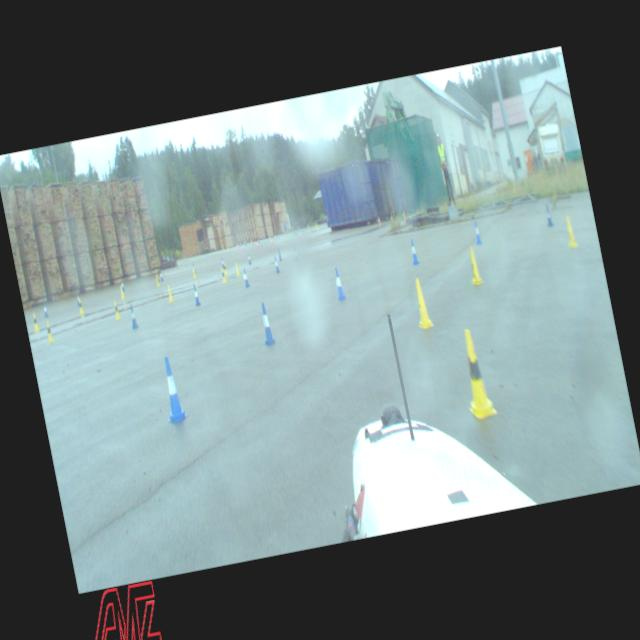blue_cone: (156, 356, 189, 424), (258, 302, 276, 344), (332, 267, 346, 300), (408, 238, 420, 265), (472, 220, 483, 244), (128, 305, 138, 328), (544, 204, 553, 226), (192, 285, 201, 305), (242, 268, 250, 288), (273, 256, 280, 274), (42, 302, 48, 318), (159, 270, 164, 282), (277, 248, 282, 260), (247, 253, 252, 264), (76, 294, 80, 306), (121, 280, 125, 292), (192, 262, 196, 274), (220, 257, 224, 268)
orange_cone: (402, 210, 406, 221), (390, 214, 394, 222), (256, 240, 260, 248), (270, 238, 274, 245), (284, 235, 287, 242), (274, 233, 277, 240), (241, 245, 244, 252), (298, 232, 301, 238), (237, 242, 240, 248), (378, 217, 380, 224), (416, 209, 419, 213)
yellow_cone: (454, 326, 498, 420), (410, 277, 434, 329), (464, 246, 484, 286), (563, 216, 578, 249), (44, 320, 54, 343), (113, 300, 121, 320), (31, 312, 39, 332), (166, 284, 174, 302), (220, 268, 228, 284), (78, 298, 84, 314), (234, 262, 240, 276), (119, 286, 125, 299), (223, 262, 228, 276), (192, 266, 196, 278), (156, 274, 160, 286)
